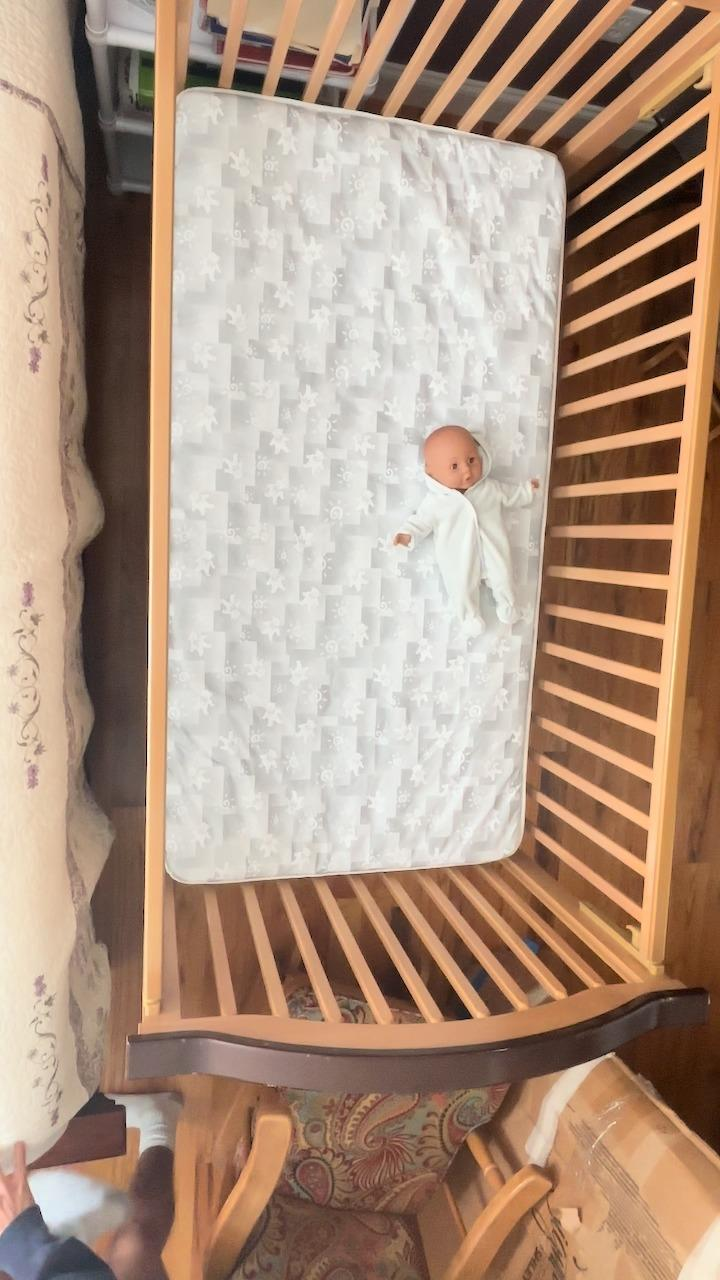baby: (386, 422, 542, 636)
